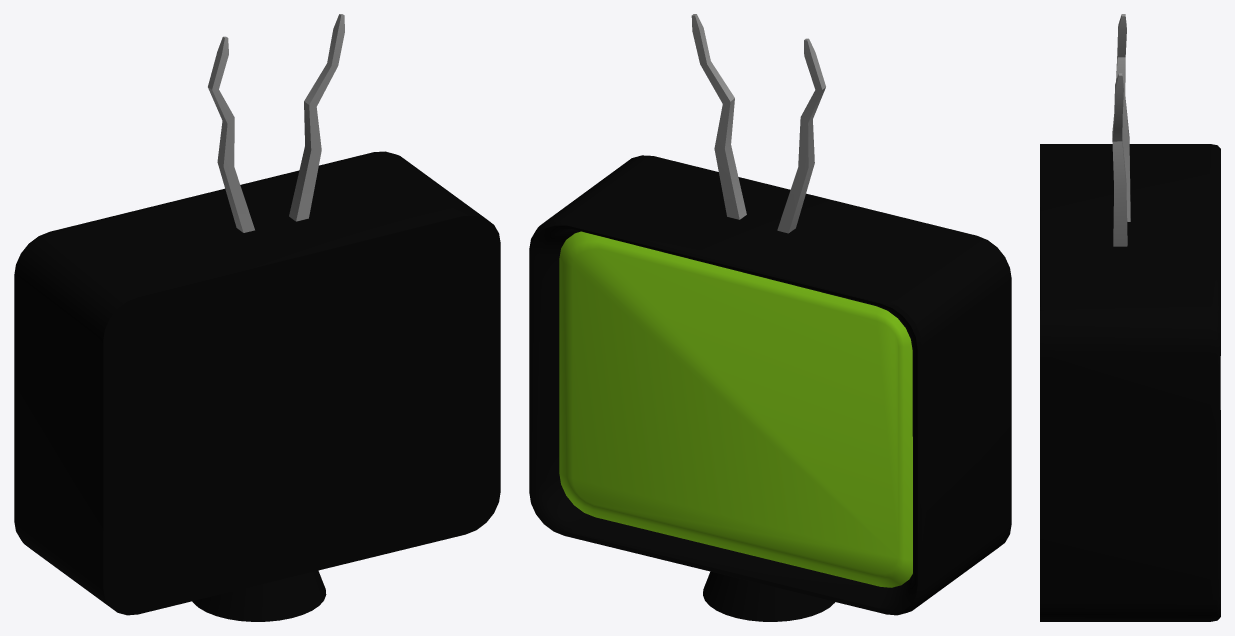
The model's file is ZTV.fbx.
3 views of the same model, side by side, from view 1: azimuth 30°, elevation 25°; view 2: azimuth 150°, elevation 25°; view 3: azimuth 270°, elevation 25° (orthographic).
Parts seen in each view (by area): view 1: ZTV; view 2: ZTV; view 3: ZTV.
Part boxes in pixels (x1,y1,x2,y2): ZTV: (14, 14, 500, 621); ZTV: (529, 14, 1011, 621); ZTV: (1040, 14, 1220, 621).
Size of the model in its own units: 200 by 272 by 79.79.
